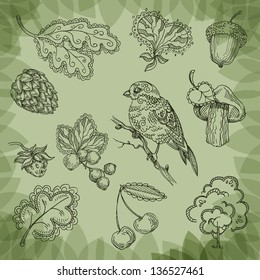Pc: (9, 67, 59, 115)
